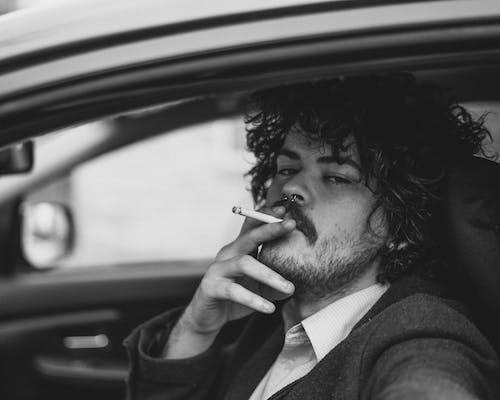cigarette: (231, 204, 285, 226)
